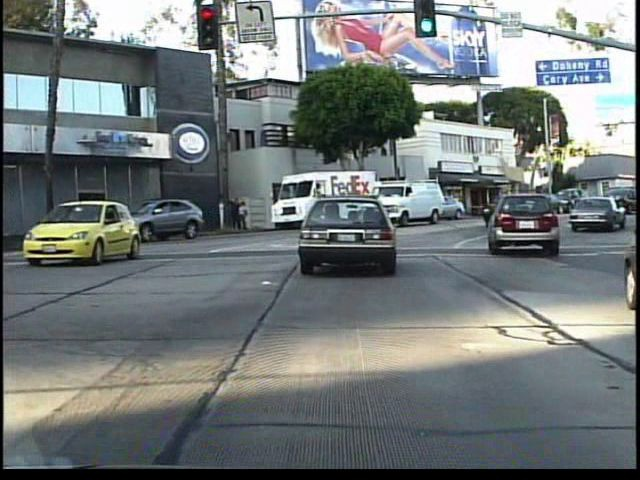person: (229, 194, 241, 233), (238, 201, 252, 233)
